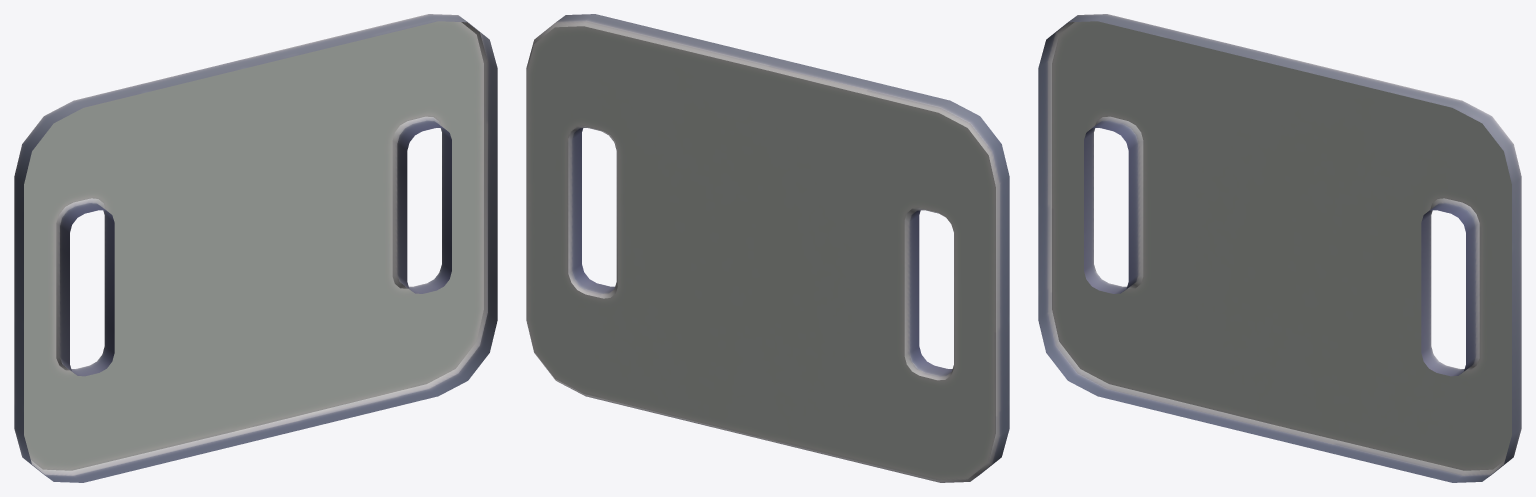
The model's file is CuttingBoard.fbx.
3 renders of one model, left to right at view 1: azimuth 30°, elevation 25°; view 2: azimuth 150°, elevation 25°; view 3: azimuth 330°, elevation 25°, orthographic.
Visible parts, largest first — view 1: Cutting_Board; view 2: Cutting_Board; view 3: Cutting_Board.
Boxes of the visible parts, bbox=[...] form: Cutting_Board: bbox=[14, 14, 497, 482]; Cutting_Board: bbox=[526, 14, 1009, 482]; Cutting_Board: bbox=[1038, 14, 1521, 482].
Bounding box in the file's own units: 158 × 120 × 6.72.
